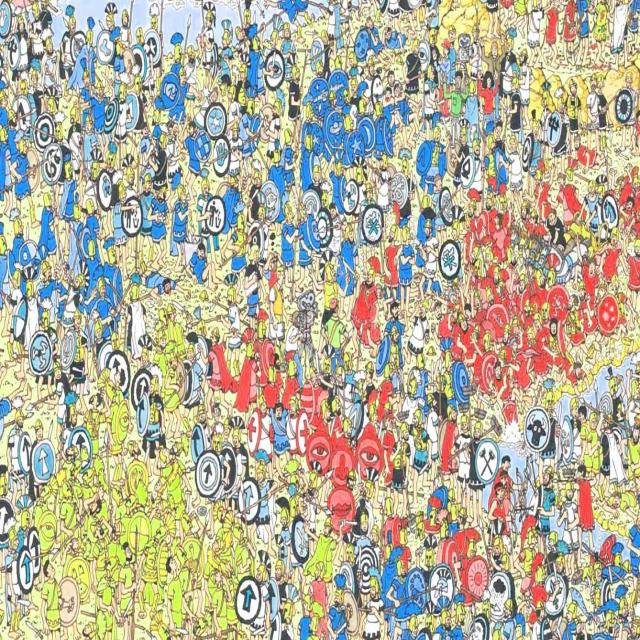waldo: (210, 400, 220, 422)
